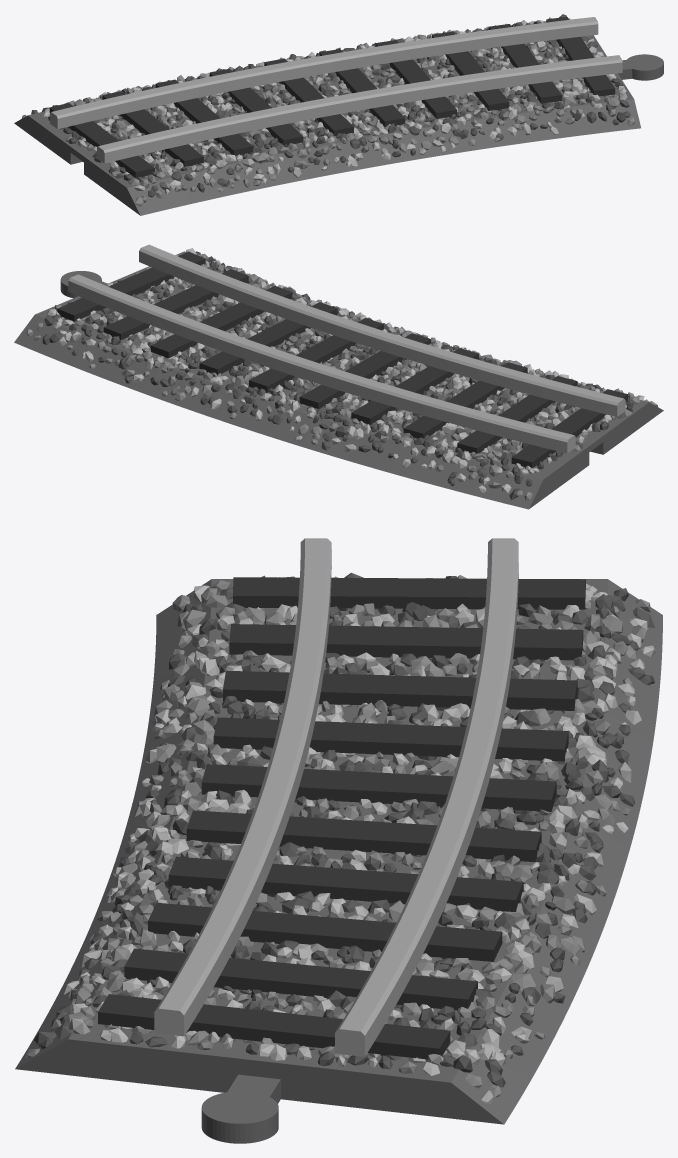
Rendered from Rail_Curve_Right.obj.
The picture shows the model from 3 angles, top to bottom: view 1: azimuth 30°, elevation 25°; view 2: azimuth 150°, elevation 25°; view 3: azimuth 270°, elevation 25°; orthographic projection. The views are drawn at different scales.
Visible parts, largest first — view 1: Rail_Curve_Right; view 2: Rail_Curve_Right; view 3: Rail_Curve_Right.
Boxes of the visible parts, x1,y1,x2,y2 form: Rail_Curve_Right: [14, 14, 663, 215]; Rail_Curve_Right: [14, 244, 663, 509]; Rail_Curve_Right: [15, 538, 662, 1143].
Bounding box in the file's own units: 1.14 × 0.0812 × 0.5885.
Materials: 1 (1 with a texture image).
